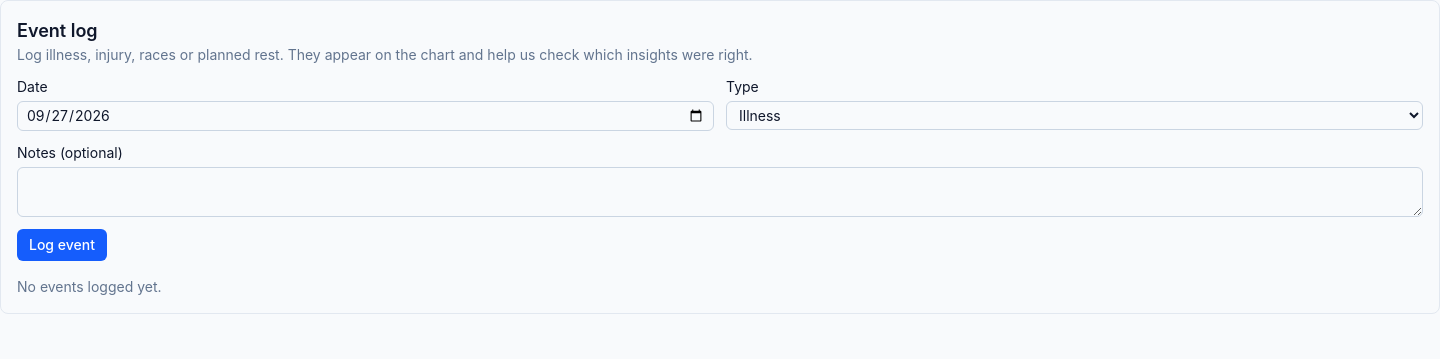
Scenario: EventLog › shows the error from a failed create without echoing notes
This screenshot has width=1440, height=359.
Click the button "Log event": (62, 245) [17, 229, 107, 261]
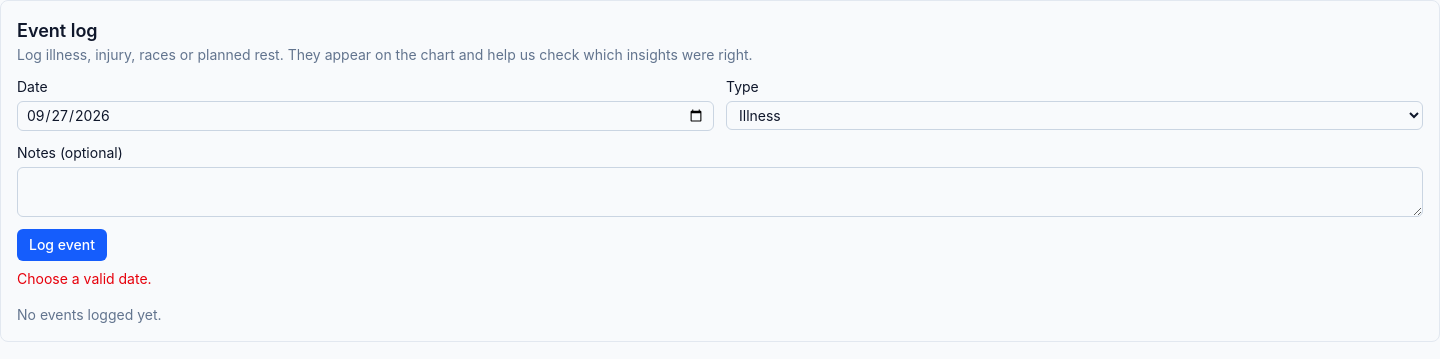
Check: the message reads "Choose a valid date.", box [17, 270, 152, 287]
